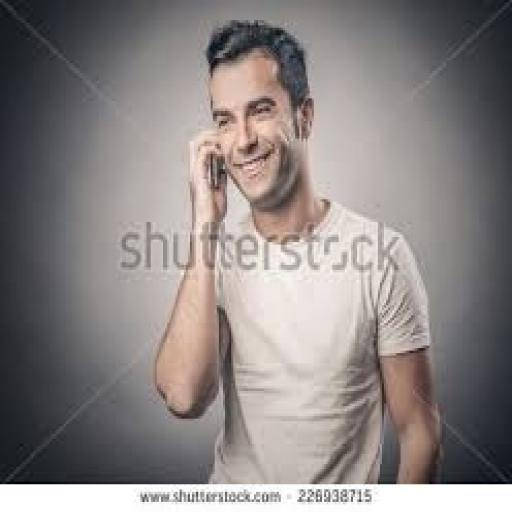calling: (149, 18, 444, 484)
